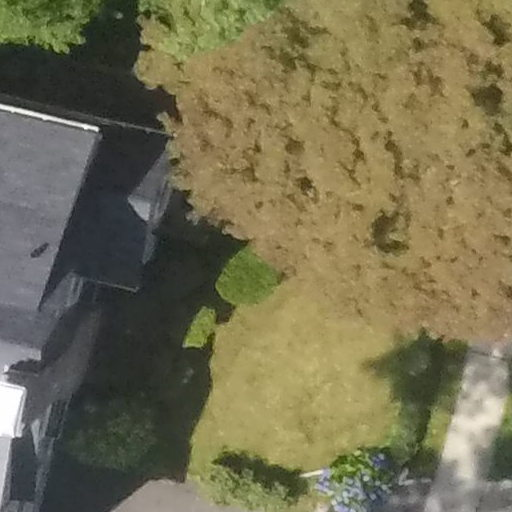front yard: (35, 183, 443, 511)
